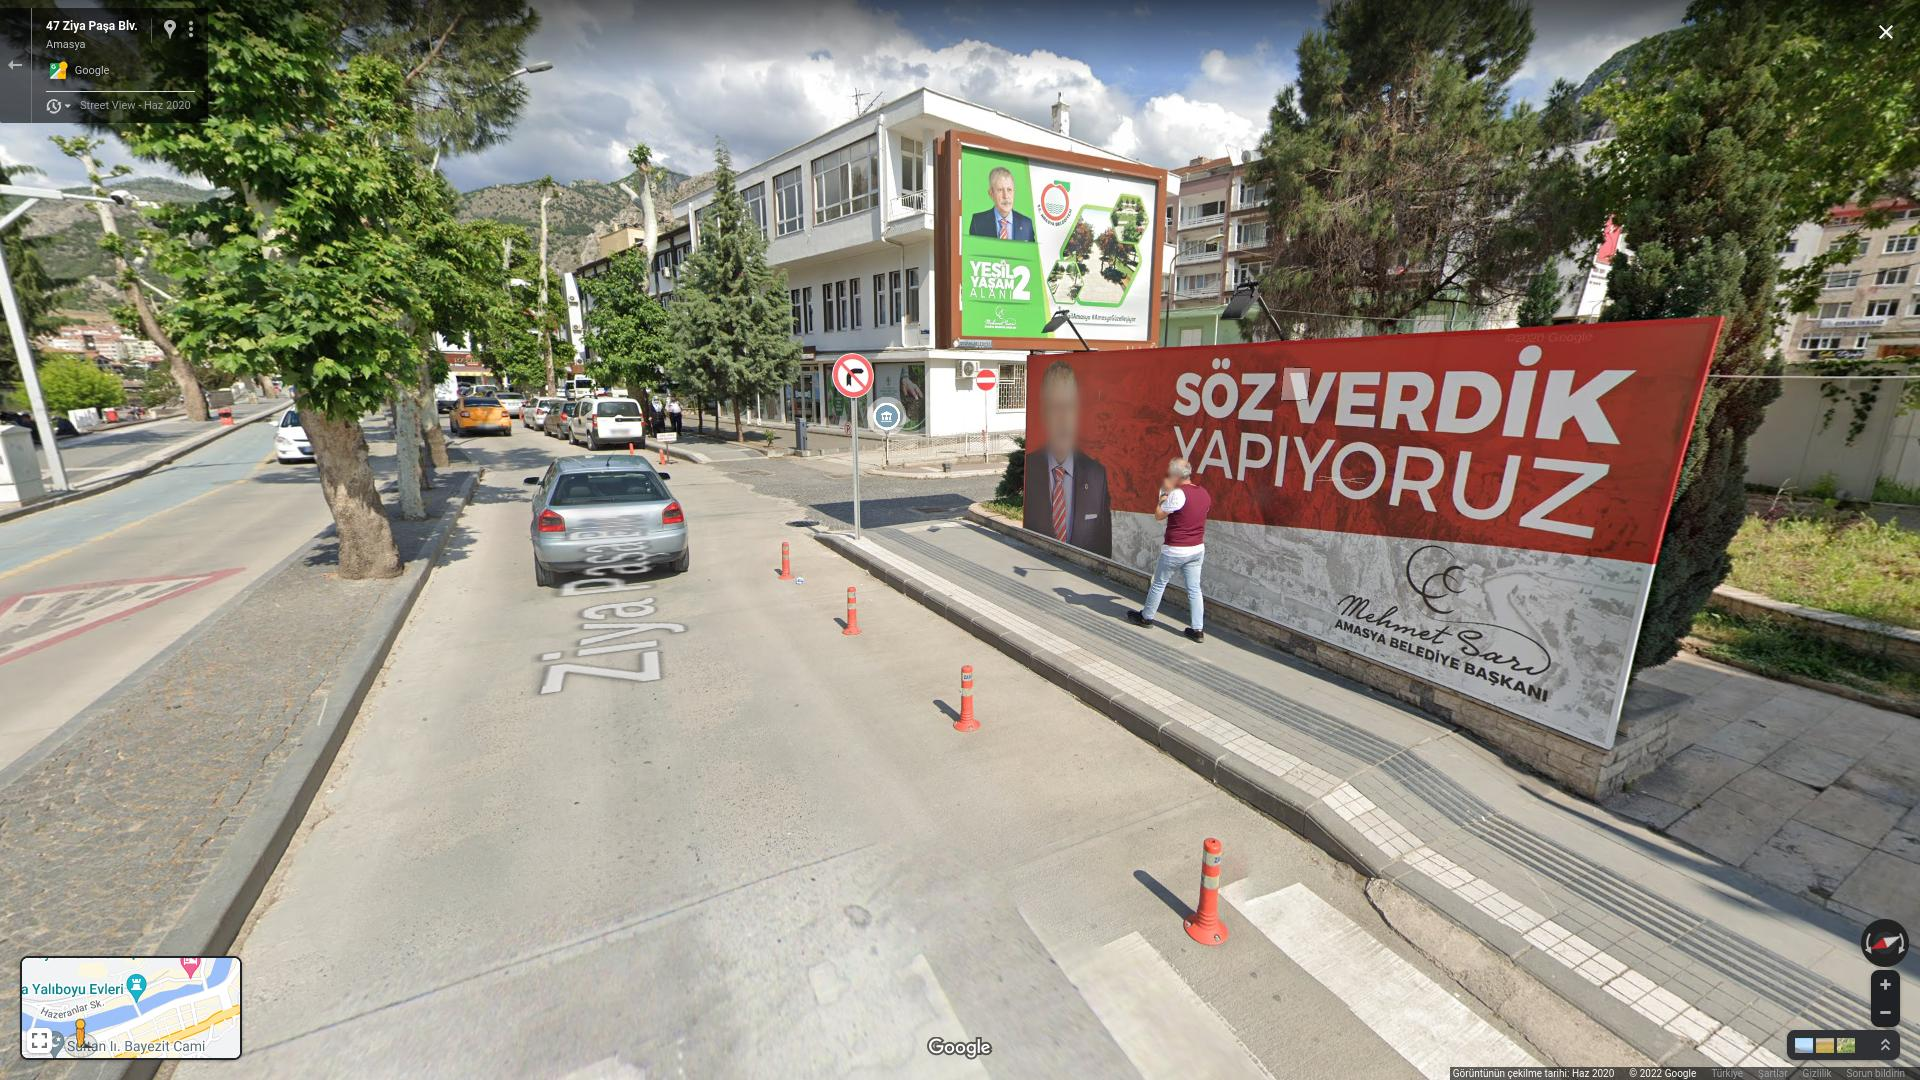rightturnsareforbidden: (831, 352, 874, 398)
